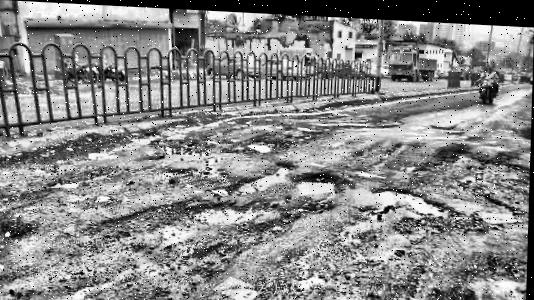pothole: (103, 191, 304, 246), (370, 182, 457, 215), (234, 156, 298, 193), (295, 167, 341, 195), (159, 141, 209, 156), (478, 203, 522, 218), (248, 137, 272, 151)
